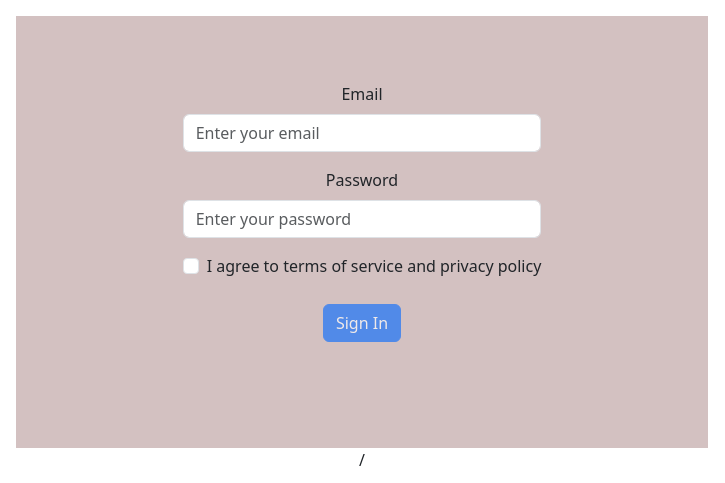
Test case: Login Form Tests › email yanlış girildiğinde
Type "yanlis@email" into the field with test id "email".
click(363, 133); type("yanlis@email")  # box [183,114,542,152]
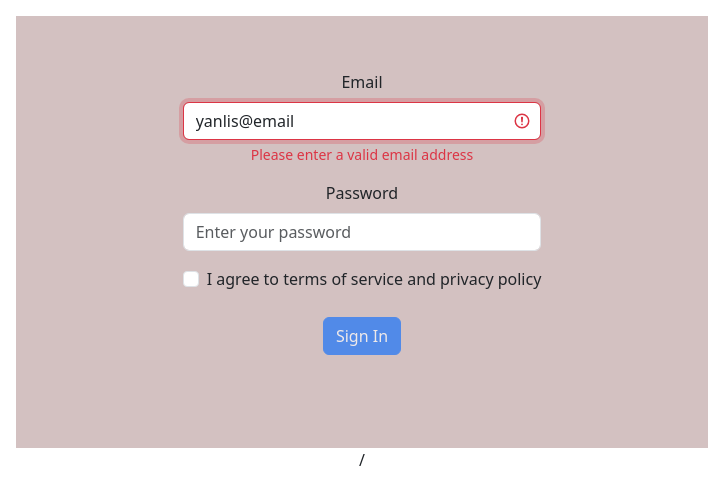
Expected: the button with test id "submit" is disabled, [323,317,401,355]
Expected: the text "Please enter a valid email address" is shown, [251,144,473,164]
Expected: the number of elements with test id "error-message" is 1, [251,145,474,164]
